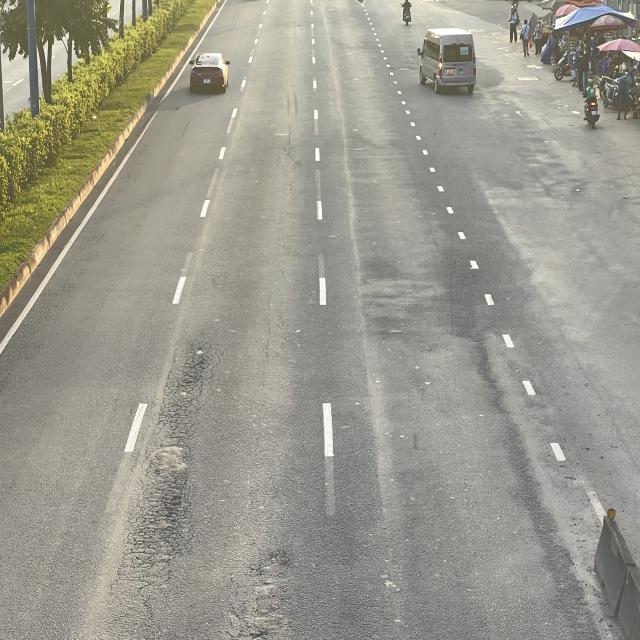car: (189, 52, 231, 94)
van: (416, 29, 476, 97)
